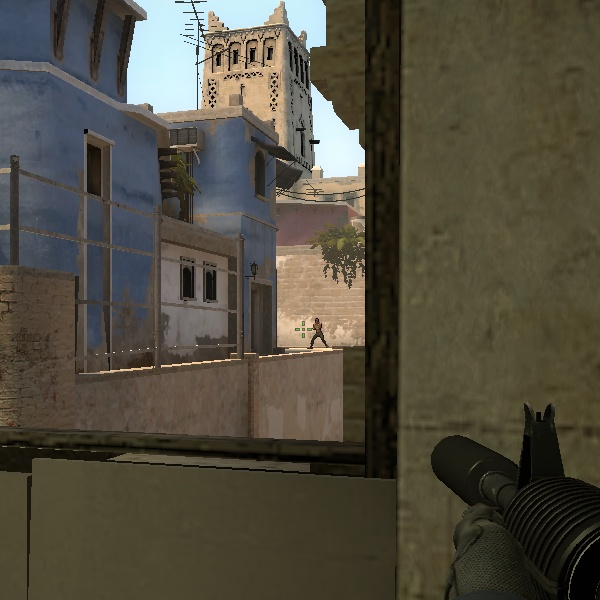t_body: (307, 315, 330, 349)
t_head: (313, 316, 322, 326)
